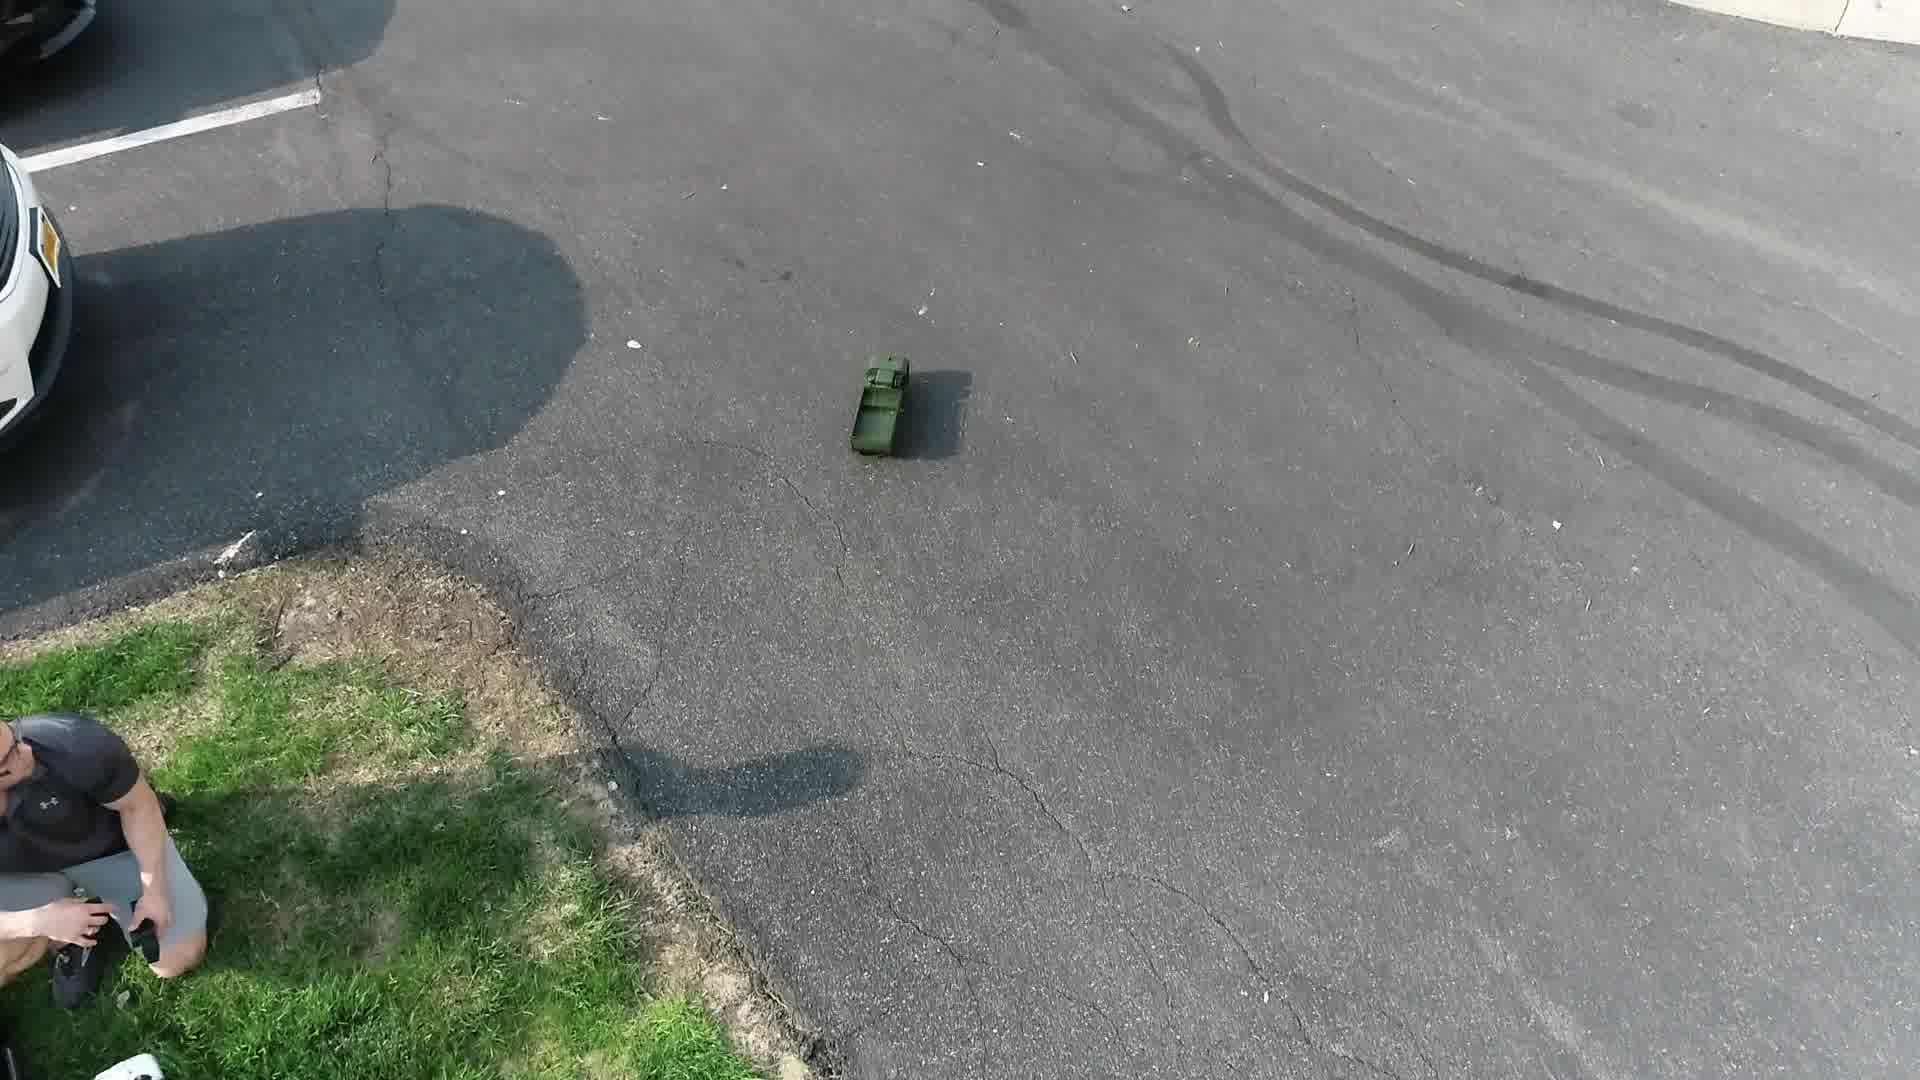transporter9: (841, 349, 919, 465)
